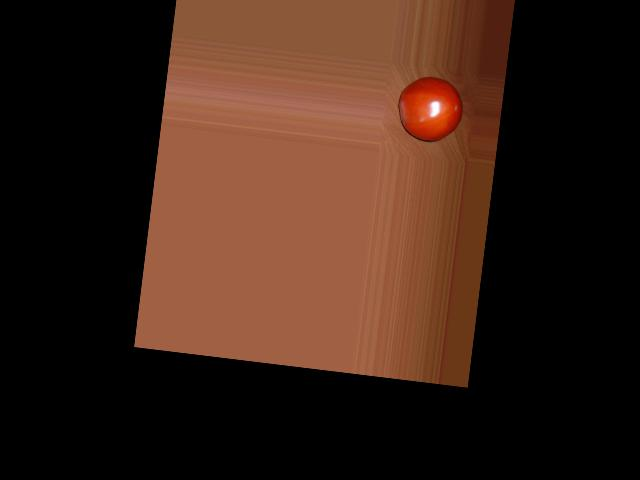tomato: (394, 72, 466, 145)
